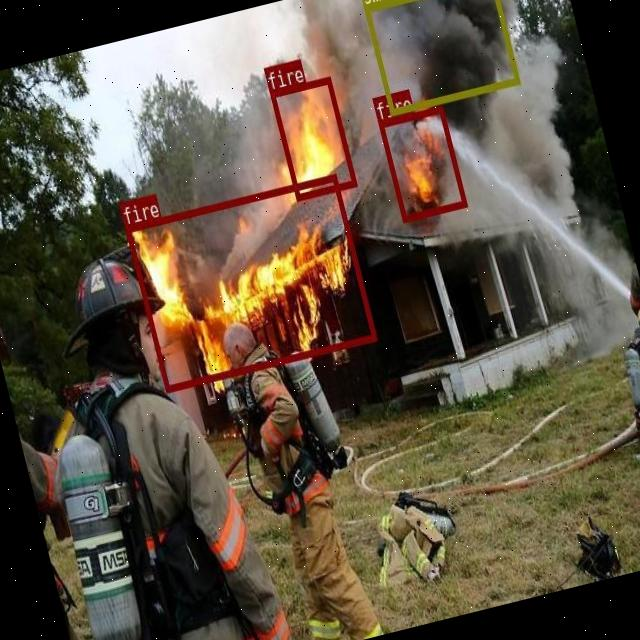fire: (124, 173, 376, 392), (268, 75, 356, 199), (378, 105, 467, 221)
smoke: (362, 0, 518, 115)
